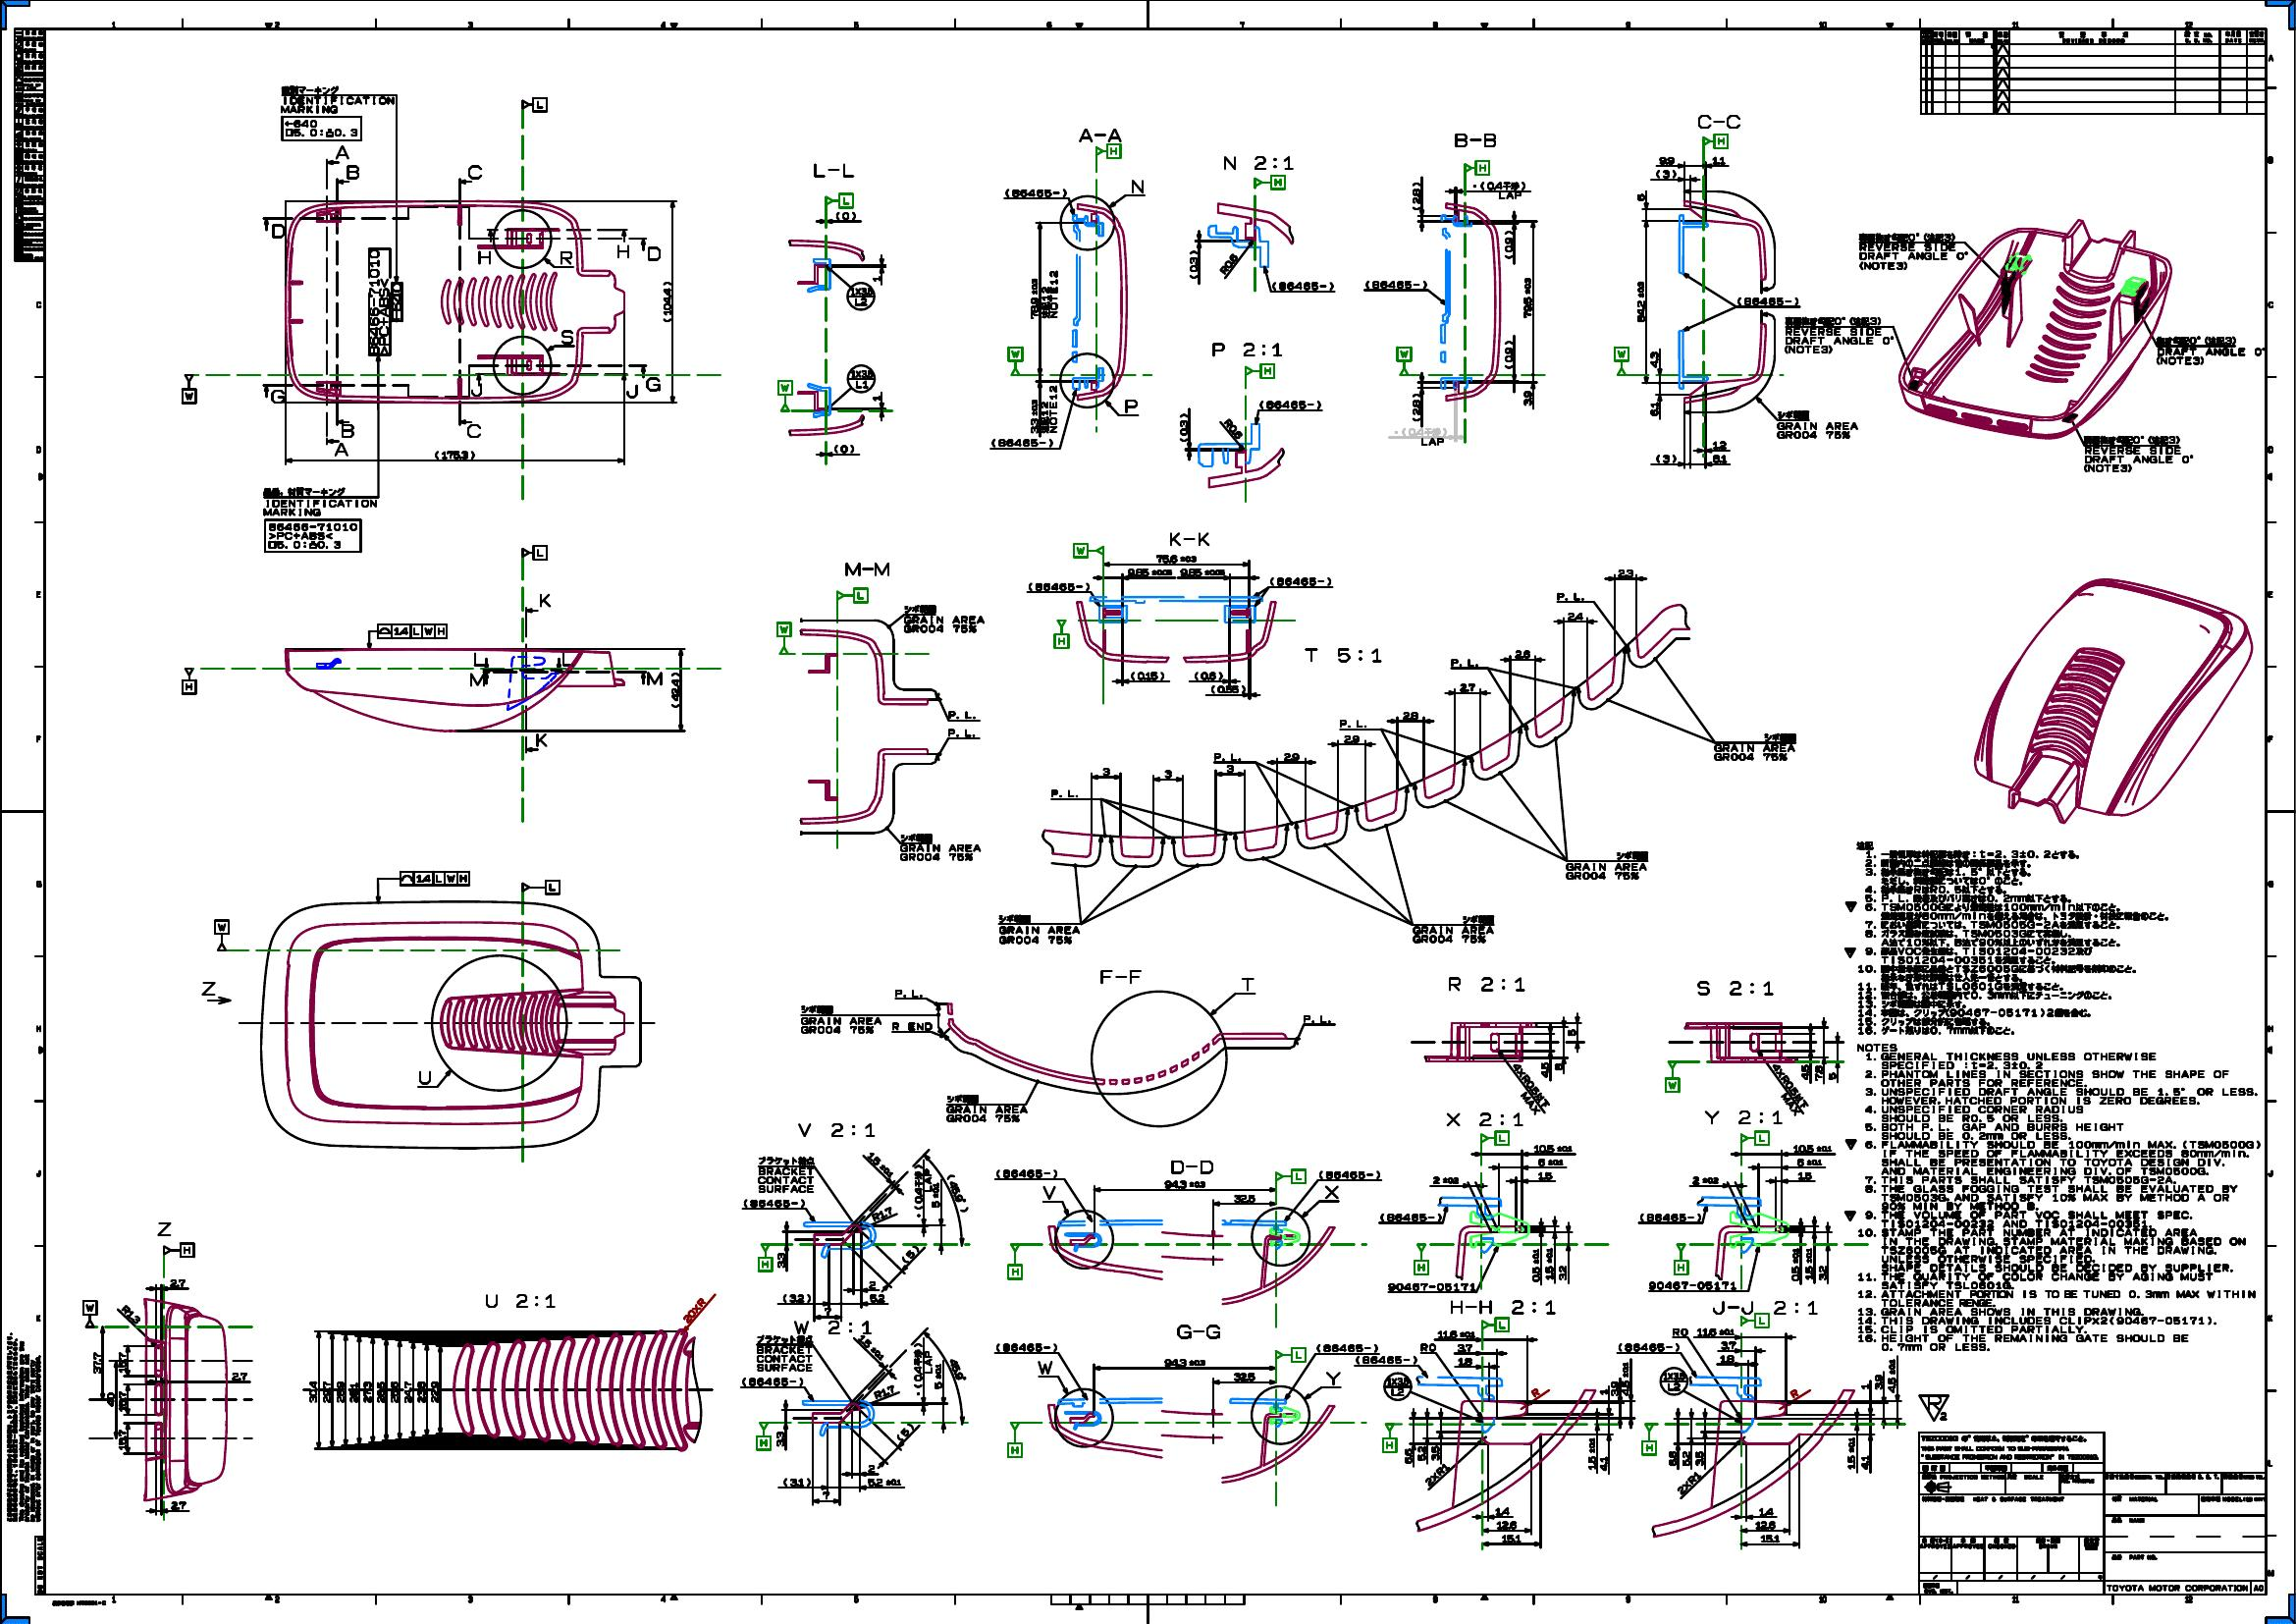anntotation_text: (1843, 837, 2261, 1353), (4, 1332, 44, 1524), (262, 499, 379, 555), (281, 95, 397, 144), (1783, 315, 1895, 359), (1857, 230, 1967, 272), (2083, 434, 2194, 475), (2155, 334, 2264, 366), (1713, 729, 1799, 766), (1774, 408, 1859, 441), (903, 603, 987, 636), (899, 831, 984, 865), (796, 1004, 884, 1035), (1412, 916, 1498, 947), (1567, 849, 1651, 881), (998, 914, 1080, 946), (945, 1091, 1028, 1123), (755, 1334, 815, 1374), (757, 1156, 817, 1193), (369, 248, 388, 355), (1448, 1299, 1558, 1316), (1711, 1299, 1816, 1316), (794, 1118, 875, 1141), (1221, 149, 1293, 174), (1446, 974, 1527, 995), (1693, 977, 1773, 998), (1442, 1109, 1525, 1128), (1702, 1107, 1785, 1127), (481, 1290, 557, 1311), (1302, 647, 1383, 666), (1209, 339, 1284, 359), (792, 1318, 875, 1336), (1497, 1076, 1560, 1098), (1755, 1081, 1818, 1102), (1470, 179, 1527, 202), (378, 622, 446, 640), (912, 1343, 933, 1399), (1917, 1392, 1952, 1425), (1388, 1280, 1476, 1292), (1449, 132, 1498, 151), (843, 559, 892, 578), (1096, 967, 1145, 986), (845, 362, 877, 392), (1658, 1366, 1690, 1396), (1383, 1371, 1412, 1403), (1635, 1211, 1702, 1225), (1648, 1280, 1736, 1290), (399, 872, 473, 884), (847, 279, 875, 311), (1379, 1211, 1442, 1225), (47, 1596, 111, 1610), (1040, 271, 1058, 320), (913, 1164, 931, 1213), (812, 162, 856, 181), (1179, 1322, 1223, 1341), (1363, 278, 1430, 290), (740, 1197, 806, 1209), (1077, 127, 1123, 144), (1258, 399, 1323, 411), (1268, 575, 1333, 587), (1356, 1353, 1421, 1366), (1737, 294, 1801, 306), (1003, 186, 1066, 199), (1042, 383, 1058, 432), (1026, 578, 1089, 591), (991, 436, 1052, 448), (264, 487, 348, 496), (1697, 114, 1743, 130), (1166, 531, 1212, 547), (994, 1169, 1063, 1179), (281, 83, 339, 95), (1170, 1158, 1214, 1174), (1270, 279, 1335, 290), (1316, 1343, 1381, 1353), (741, 1376, 806, 1387), (993, 1343, 1058, 1353), (1318, 1169, 1383, 1179), (1379, 1422, 1400, 1454), (179, 373, 199, 406), (213, 917, 232, 951), (162, 1241, 195, 1260), (1005, 1422, 1022, 1457), (889, 1019, 933, 1033), (1479, 1127, 1511, 1146), (1616, 1343, 1683, 1352), (1641, 1422, 1658, 1455), (1402, 425, 1448, 438), (824, 190, 856, 207), (776, 620, 792, 656), (1275, 1345, 1307, 1362), (755, 1244, 775, 1272), (522, 881, 560, 895), (1700, 132, 1730, 149), (35, 1536, 44, 1596), (522, 95, 548, 114), (522, 543, 548, 562), (1254, 176, 1286, 192), (1054, 619, 1070, 650), (1414, 1243, 1430, 1274), (81, 1299, 97, 1330), (1007, 346, 1024, 374), (675, 1304, 713, 1316), (1397, 346, 1412, 376), (1093, 144, 1123, 160), (181, 666, 197, 696), (755, 1420, 771, 1450), (1072, 541, 1105, 555), (1665, 1060, 1679, 1093), (1008, 1243, 1021, 1280), (1463, 160, 1491, 176), (1613, 346, 1628, 374), (1739, 1130, 1771, 1144), (1674, 1243, 1688, 1274), (1481, 1316, 1509, 1332), (1245, 364, 1275, 378), (778, 378, 791, 411), (836, 589, 870, 601), (1555, 591, 1588, 603), (1302, 1012, 1335, 1025), (1040, 1183, 1059, 1204), (392, 281, 402, 320), (1741, 1313, 1769, 1327), (947, 707, 978, 719), (1237, 974, 1256, 993), (1212, 750, 1242, 763), (1449, 656, 1479, 668), (1671, 1480, 1704, 1490), (615, 243, 632, 262), (1049, 789, 1080, 800), (1339, 719, 1370, 729), (892, 988, 922, 998), (646, 246, 664, 264), (466, 422, 483, 439), (645, 670, 662, 687), (1325, 1369, 1342, 1387), (1323, 1183, 1340, 1200), (1418, 438, 1446, 448), (947, 728, 980, 736), (1130, 178, 1145, 195), (646, 374, 662, 392), (269, 388, 286, 404), (467, 673, 487, 687), (1035, 1360, 1054, 1374), (1421, 1471, 1451, 1480), (1123, 399, 1138, 415), (625, 383, 641, 399), (538, 591, 553, 606), (416, 1069, 432, 1084), (332, 441, 350, 455), (336, 144, 350, 162), (467, 163, 481, 181), (271, 221, 285, 237), (344, 163, 358, 179), (557, 250, 573, 264), (478, 250, 492, 265), (534, 733, 548, 749), (156, 1220, 170, 1236), (560, 329, 573, 346), (469, 383, 483, 397), (204, 982, 216, 998), (341, 424, 353, 438), (1530, 1385, 1542, 1397), (1788, 1387, 1801, 1399)
dimension_text: (1520, 272, 1534, 320), (1154, 550, 1200, 564), (1161, 1355, 1207, 1367), (1634, 278, 1646, 323), (1163, 1178, 1207, 1190), (938, 1188, 978, 1200), (1585, 1436, 1599, 1471), (662, 279, 673, 325), (1029, 274, 1040, 320), (432, 448, 478, 459), (1620, 1360, 1632, 1399), (1802, 1244, 1815, 1283), (1528, 1246, 1541, 1285), (1885, 1357, 1897, 1394), (1026, 397, 1038, 434), (1195, 668, 1226, 682), (1409, 392, 1423, 424), (1214, 257, 1245, 271), (854, 1341, 889, 1353), (1542, 1246, 1555, 1281), (1502, 227, 1514, 262), (1217, 422, 1247, 436), (1126, 566, 1173, 575), (1562, 608, 1588, 624), (1437, 1327, 1476, 1338), (1790, 1244, 1801, 1283), (1209, 682, 1247, 692), (861, 1160, 898, 1171), (1502, 339, 1514, 371), (1530, 1142, 1574, 1151), (866, 1476, 901, 1487), (1846, 1434, 1857, 1469), (1130, 670, 1165, 680), (1177, 568, 1228, 575), (1792, 1142, 1832, 1151), (1188, 248, 1198, 281), (870, 1385, 898, 1397), (1692, 1174, 1720, 1186), (1432, 1172, 1460, 1185), (831, 441, 856, 455), (1697, 1327, 1736, 1336), (1534, 1155, 1565, 1165), (1411, 179, 1421, 211), (1231, 1192, 1258, 1204), (1655, 165, 1678, 179), (782, 1292, 812, 1302), (943, 1364, 973, 1374), (1794, 1156, 1823, 1167), (116, 1309, 146, 1320), (1179, 411, 1189, 441), (116, 1350, 128, 1374), (91, 1352, 104, 1376), (833, 207, 857, 220), (307, 1378, 318, 1406), (1614, 566, 1635, 580), (780, 1476, 813, 1485), (929, 1181, 940, 1207), (116, 1427, 126, 1454), (898, 1250, 922, 1260), (871, 1207, 896, 1218), (1716, 1353, 1737, 1366), (429, 1380, 439, 1404), (415, 1380, 425, 1404), (402, 1380, 413, 1404), (388, 1380, 399, 1404), (374, 1380, 385, 1404), (362, 1380, 372, 1404), (334, 1380, 344, 1404), (671, 671, 678, 708), (1513, 647, 1534, 659), (1653, 452, 1678, 462), (1648, 397, 1660, 418), (933, 1362, 942, 1390), (1718, 1338, 1736, 1352), (892, 1427, 915, 1438), (1498, 1533, 1521, 1543), (1495, 1519, 1518, 1529), (1758, 1531, 1781, 1541), (1667, 1448, 1679, 1468), (321, 1378, 330, 1404), (119, 1387, 128, 1413), (1458, 682, 1479, 692), (1521, 388, 1532, 410), (1231, 1371, 1256, 1380), (1456, 1353, 1474, 1366), (1671, 1325, 1688, 1338), (1757, 1504, 1774, 1517), (1556, 1262, 1569, 1280), (348, 1380, 357, 1404), (104, 1390, 116, 1408), (232, 1369, 249, 1381), (1648, 350, 1660, 367), (1799, 1062, 1809, 1081), (1418, 1341, 1437, 1352), (1599, 1454, 1609, 1473), (1535, 1169, 1555, 1179), (1342, 733, 1361, 743), (1402, 708, 1421, 719), (1755, 1519, 1778, 1527), (1493, 1504, 1509, 1517), (1456, 1341, 1474, 1352), (1873, 1373, 1883, 1390), (1713, 452, 1727, 464), (1713, 438, 1727, 450), (1815, 1063, 1823, 1083), (1404, 1446, 1412, 1466), (870, 1292, 885, 1302), (1859, 1454, 1869, 1469), (170, 1499, 186, 1510), (1660, 155, 1676, 165), (776, 1251, 785, 1269), (775, 1431, 783, 1448), (1609, 1380, 1618, 1397), (1681, 1450, 1690, 1468), (1693, 1450, 1702, 1468), (1818, 1265, 1827, 1283), (1797, 1171, 1815, 1179), (1539, 1060, 1548, 1077), (169, 1278, 186, 1287), (1282, 752, 1300, 761), (1857, 1380, 1869, 1392), (1635, 192, 1648, 204), (1827, 1069, 1838, 1083), (1416, 1446, 1426, 1461), (1430, 1445, 1439, 1461), (1597, 1387, 1609, 1397), (1565, 1026, 1576, 1039), (1100, 766, 1112, 777), (1163, 768, 1173, 780), (1713, 155, 1725, 165), (822, 1306, 833, 1316), (868, 1278, 877, 1290), (866, 1462, 875, 1473), (1224, 765, 1235, 773), (822, 1490, 831, 1499), (1553, 1062, 1562, 1070)
object: (1038, 598, 1690, 859), (260, 898, 645, 1149), (1969, 576, 2256, 826), (285, 199, 624, 399), (1895, 214, 2175, 441), (935, 990, 1293, 1130), (1646, 1387, 1857, 1541), (457, 1327, 703, 1448), (1412, 1374, 1597, 1534), (279, 647, 629, 731), (796, 622, 940, 824), (1196, 199, 1291, 489), (1047, 1218, 1339, 1308), (1047, 1394, 1337, 1483), (1674, 195, 1769, 408), (141, 1295, 232, 1503), (787, 236, 868, 436), (1073, 592, 1277, 666), (1437, 204, 1504, 404), (1066, 199, 1130, 408), (1437, 1193, 1532, 1280), (1693, 1193, 1790, 1278), (1681, 1018, 1801, 1065), (1423, 1018, 1541, 1062), (799, 1218, 878, 1260), (801, 1397, 877, 1438)
title_block: (1917, 1431, 2266, 1594), (1918, 28, 2266, 112), (11, 26, 46, 262)
